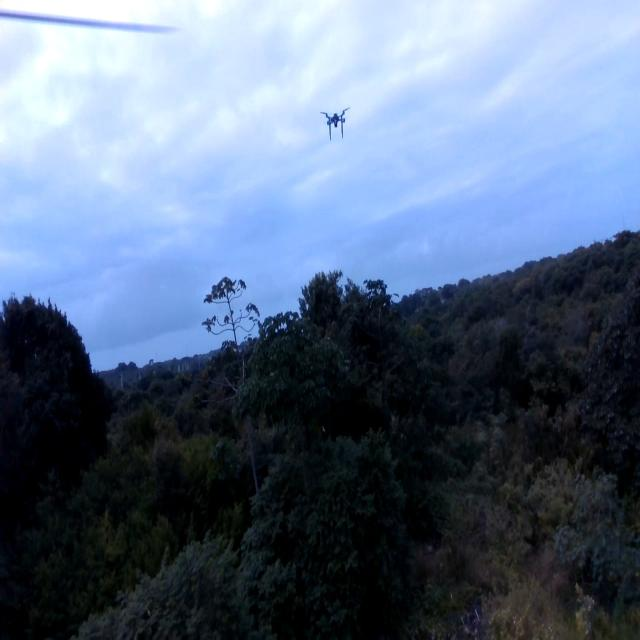-uav-: (312, 97, 358, 151)
